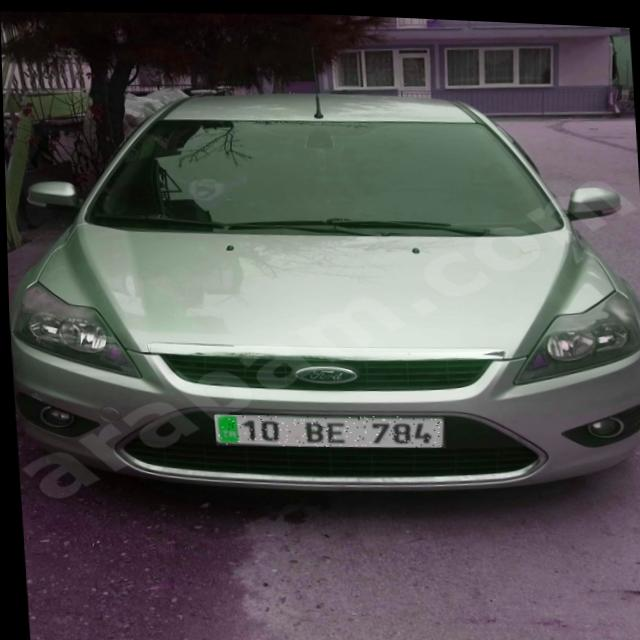license_plate: (211, 404, 443, 451)
